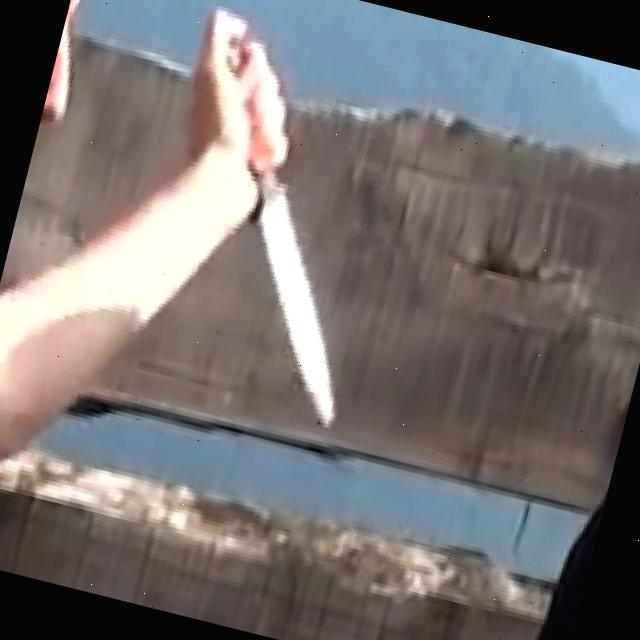suspicion: (0, 0, 432, 546), (199, 166, 392, 436)
